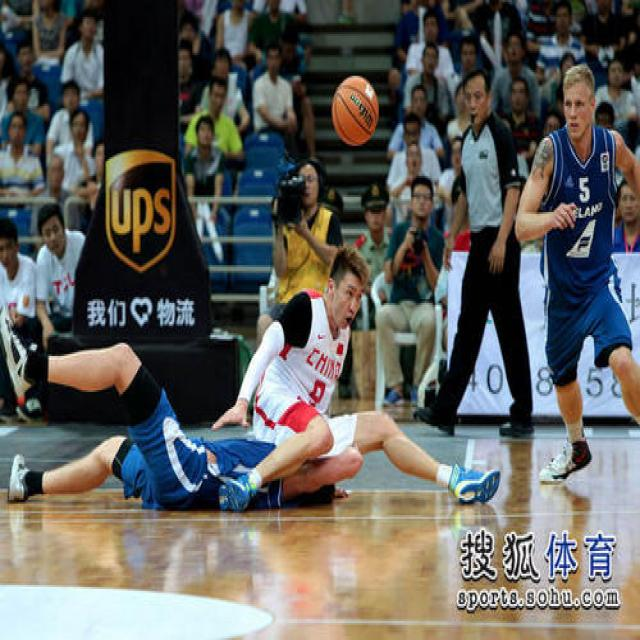10-: (9, 4, 632, 524)
down: (246, 244, 528, 521), (10, 322, 242, 517)
